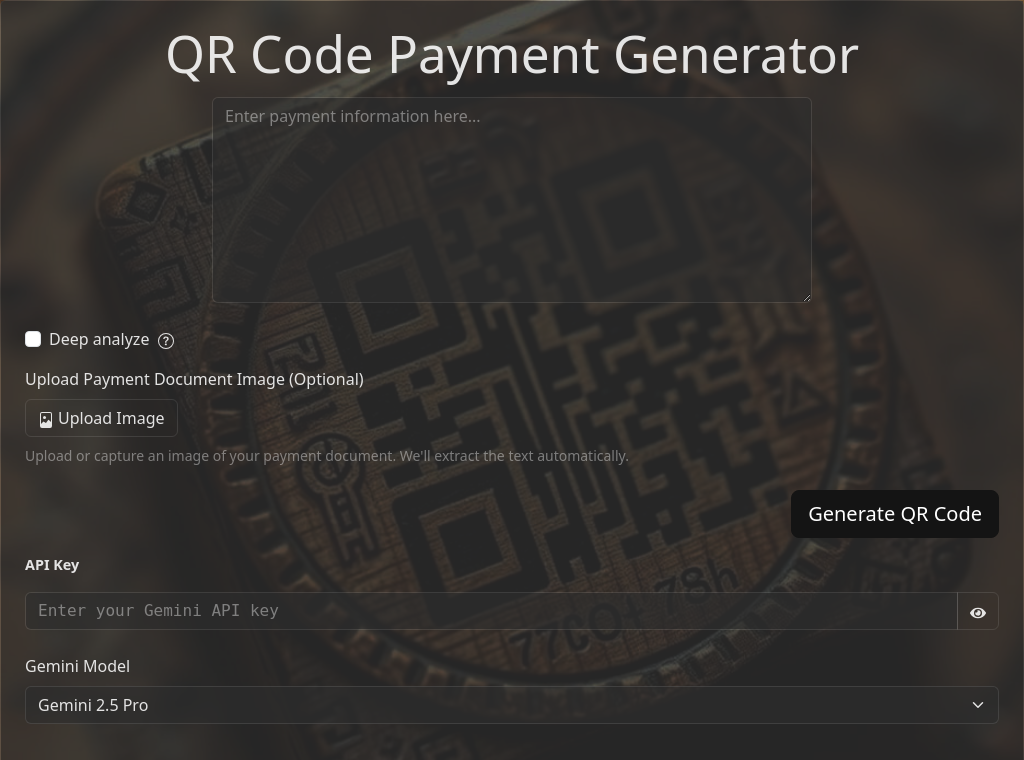
SimpleLayout Component › shows validation errors when submitting with empty fields
Click the button "Generate QR Code" at (895,514), box [791,490,999,538]
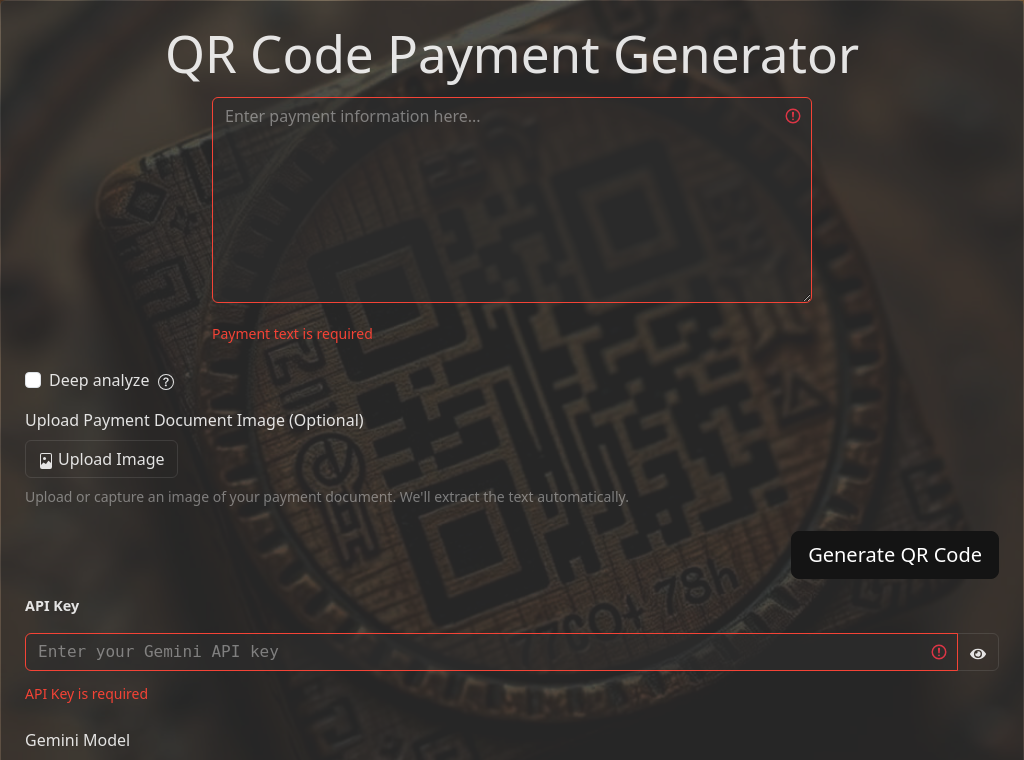
Expected: the text "API Key is required" is shown, [25,684,148,703]
Expected: the text "Payment text is required" is shown, [212,324,373,343]
